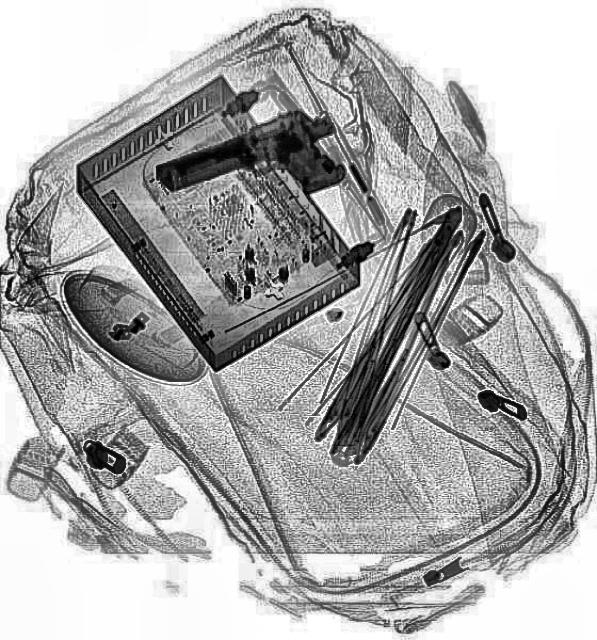Gun: (150, 98, 354, 242)
